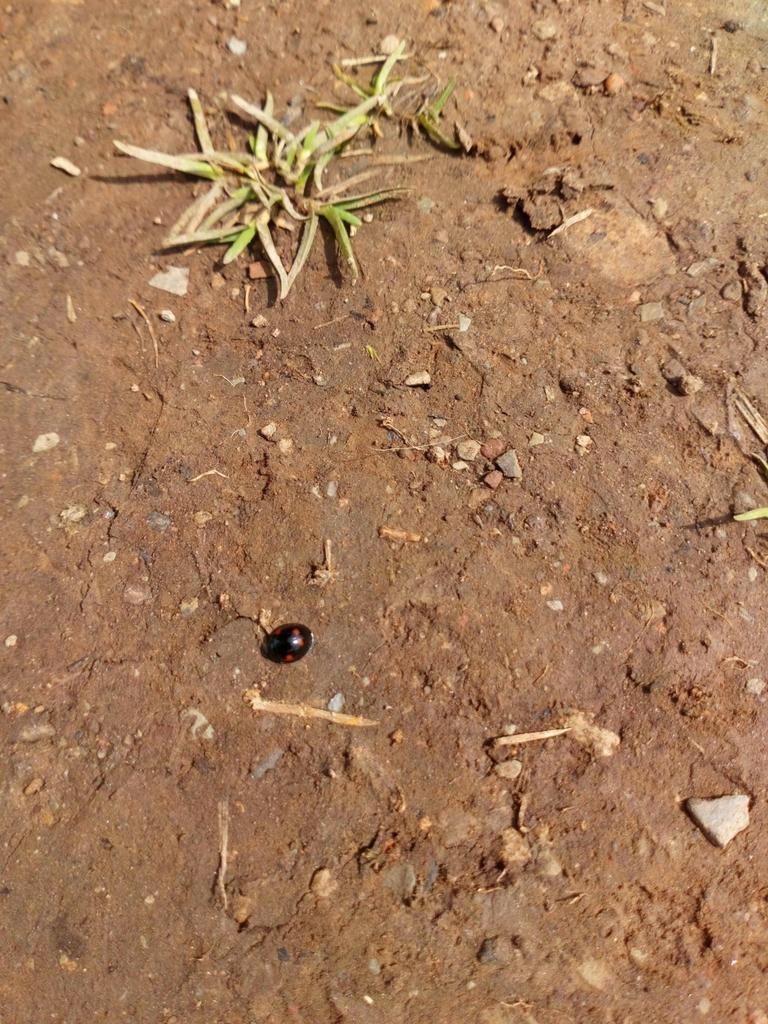ladybug: (259, 623, 316, 667)
